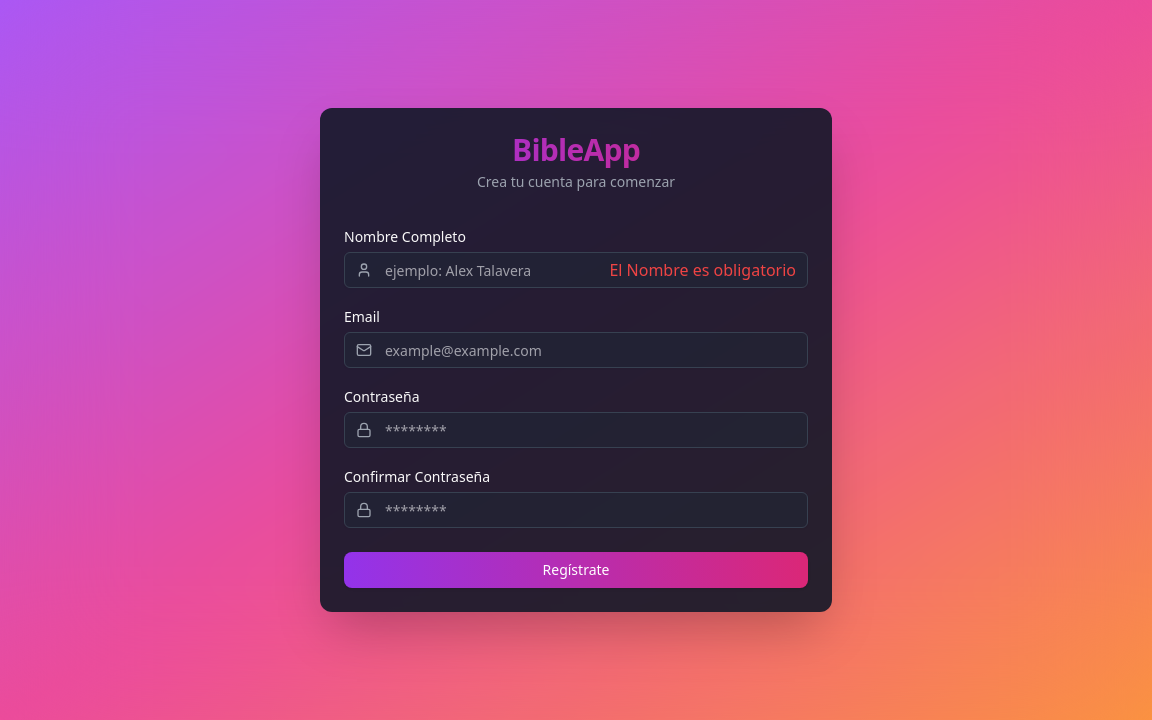
Test: Componente de Registro › muestra error cuando no se proporciona el nombre completo
This screenshot has width=1152, height=720.
Type "john@example.com" into the field labelled "Email" at coordinates (576, 350), box [344,332,808,368]
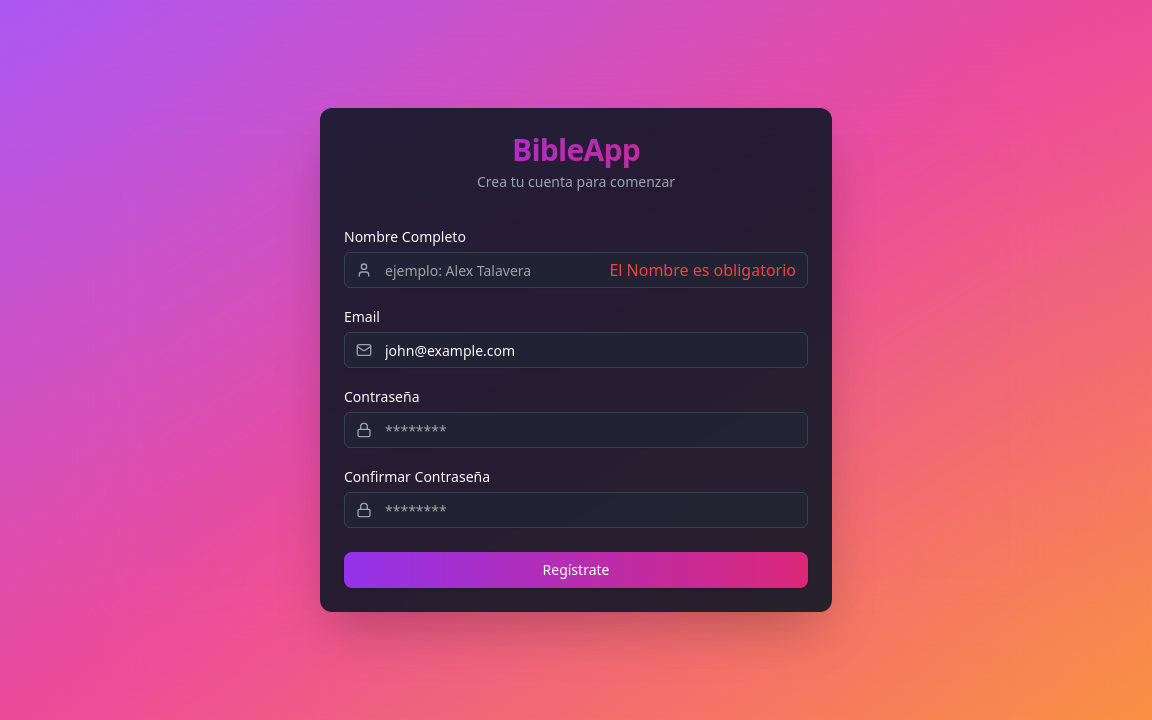
Type "password123" into the password field labelled "Contraseña" at coordinates (576, 430), box [344,412,808,448]
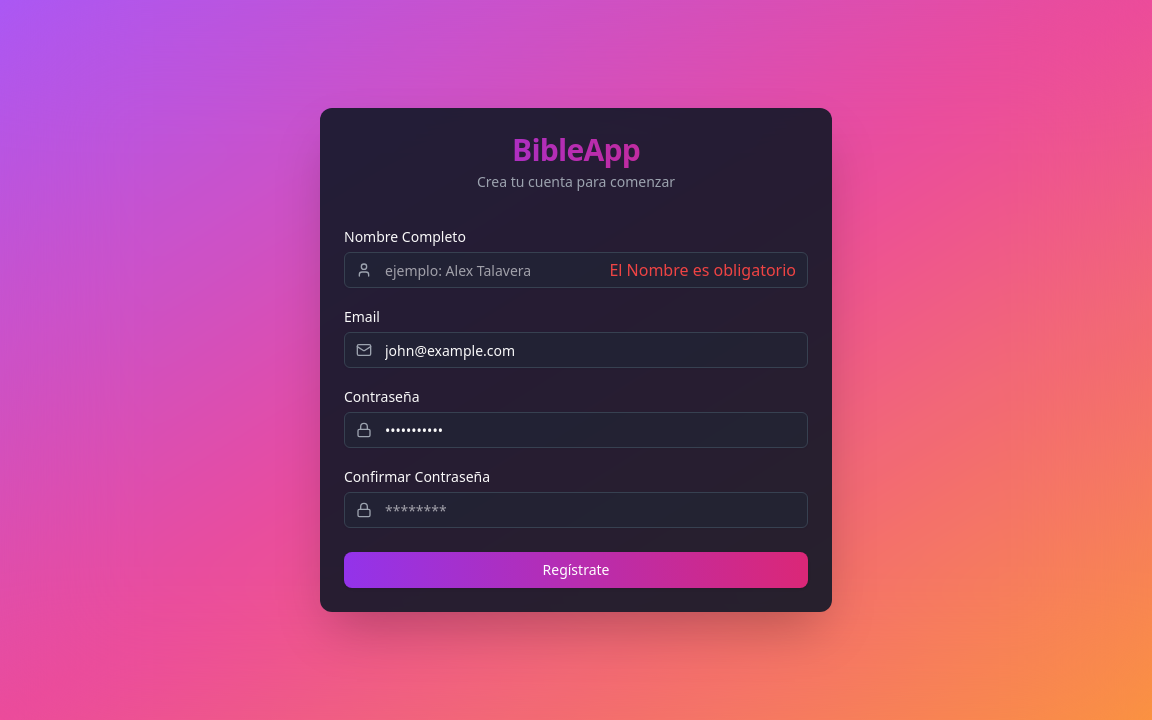
Type "password123" into the password field labelled "Confirmar Contraseña" at coordinates (576, 510), box [344,492,808,528]
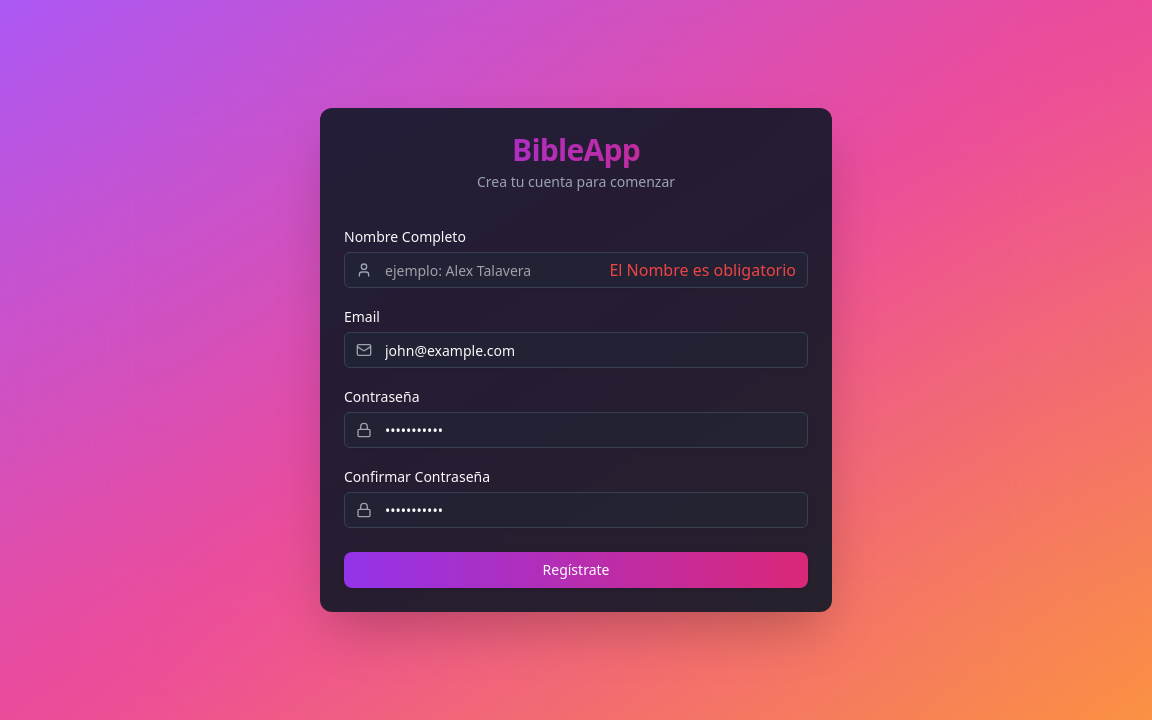
Click the button "Regístrate" at coordinates (576, 570), box [344,552,808,588]
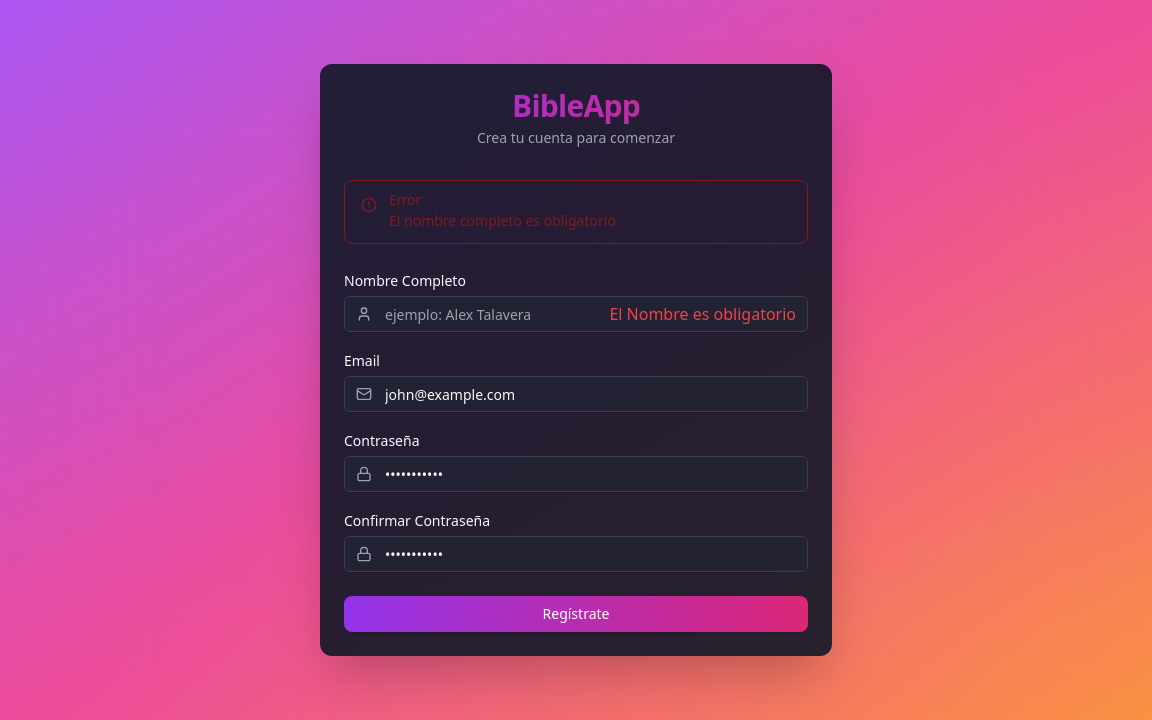
Expected: the text "El nombre completo es obligatorio" is shown, [389,211,616,230]
